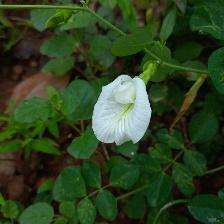shankupushpam: (91, 73, 154, 147)
